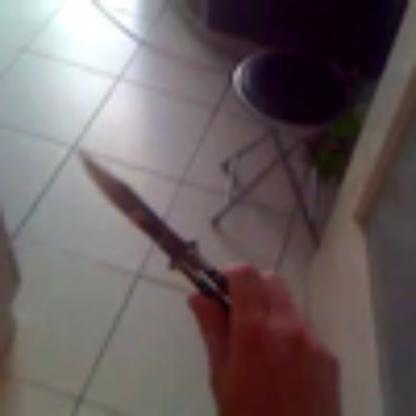knives: (58, 129, 274, 353)
